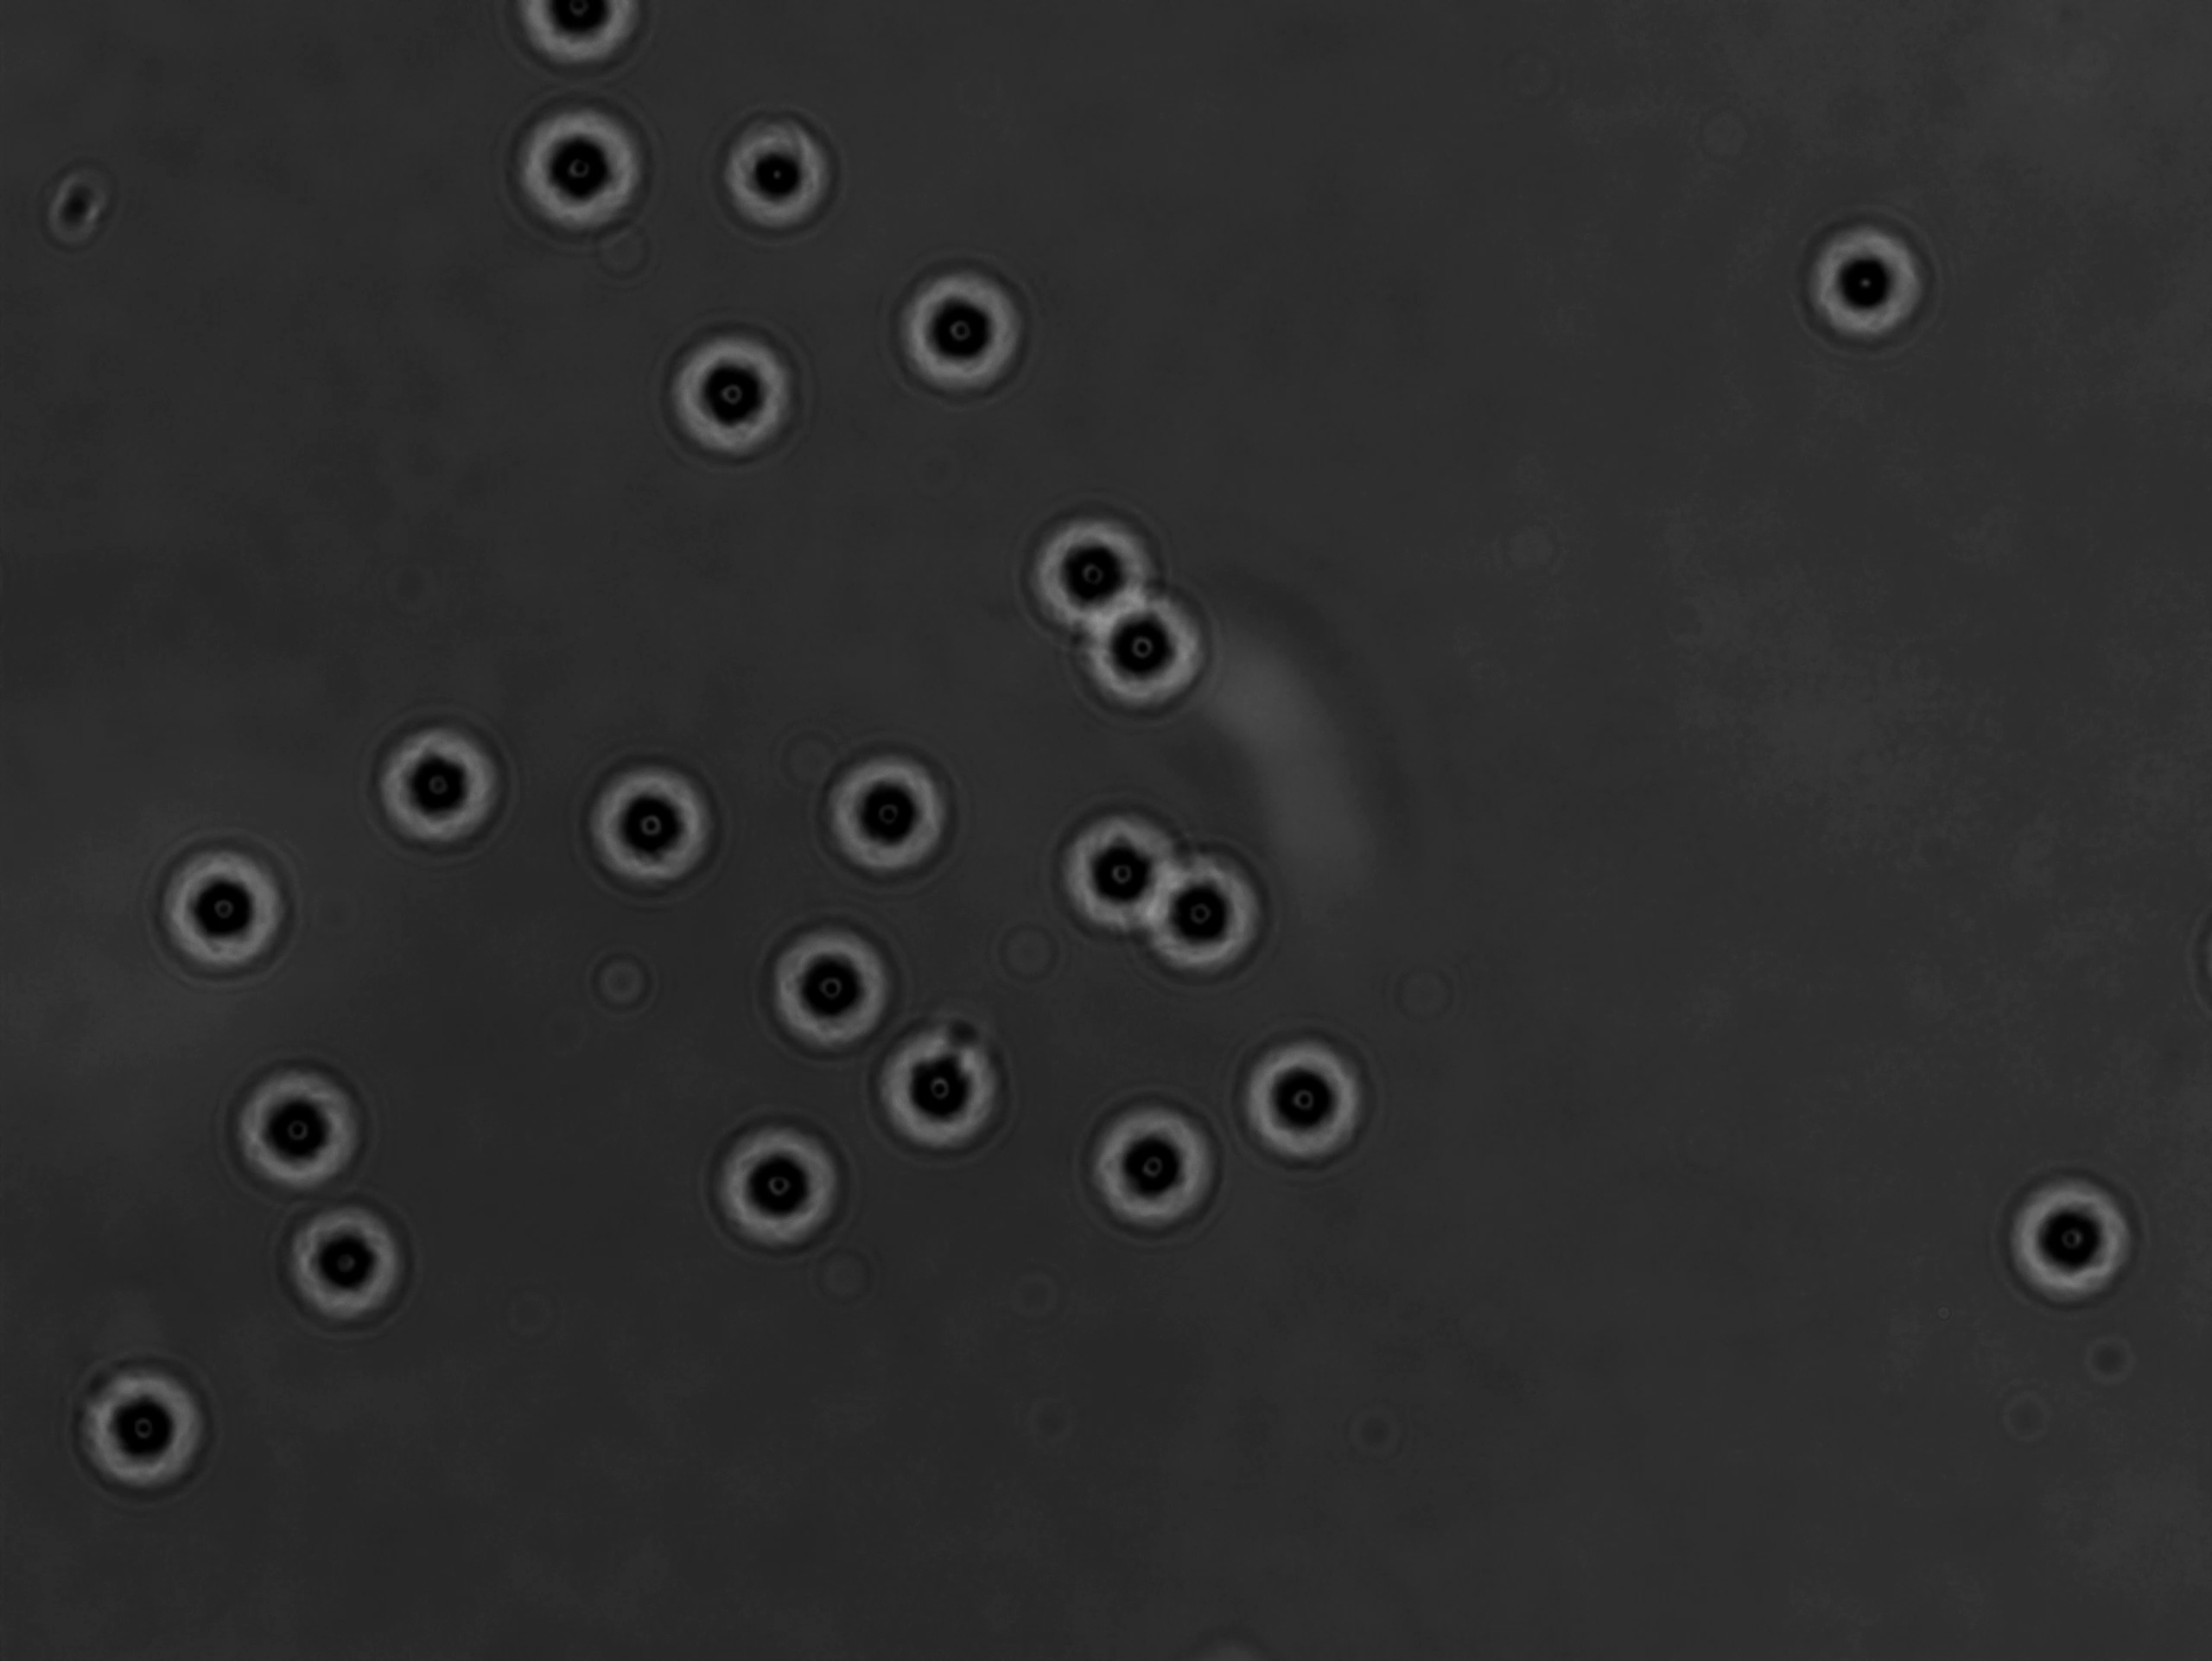depth:-20: (1990, 1148, 2184, 1338), (801, 735, 972, 902), (202, 1047, 384, 1204), (66, 1345, 237, 1511), (1212, 1021, 1382, 1186), (136, 830, 314, 984), (700, 1108, 862, 1272), (365, 710, 530, 871), (1069, 1085, 1235, 1246), (654, 309, 813, 473), (1029, 789, 1193, 946), (272, 1197, 441, 1349), (876, 248, 1033, 408), (494, 92, 654, 248), (748, 904, 909, 1059), (1069, 576, 1237, 724), (572, 755, 733, 909), (1008, 508, 1164, 658), (1786, 211, 1943, 359), (1122, 841, 1272, 995), (867, 1015, 1017, 1165), (707, 105, 851, 258)
